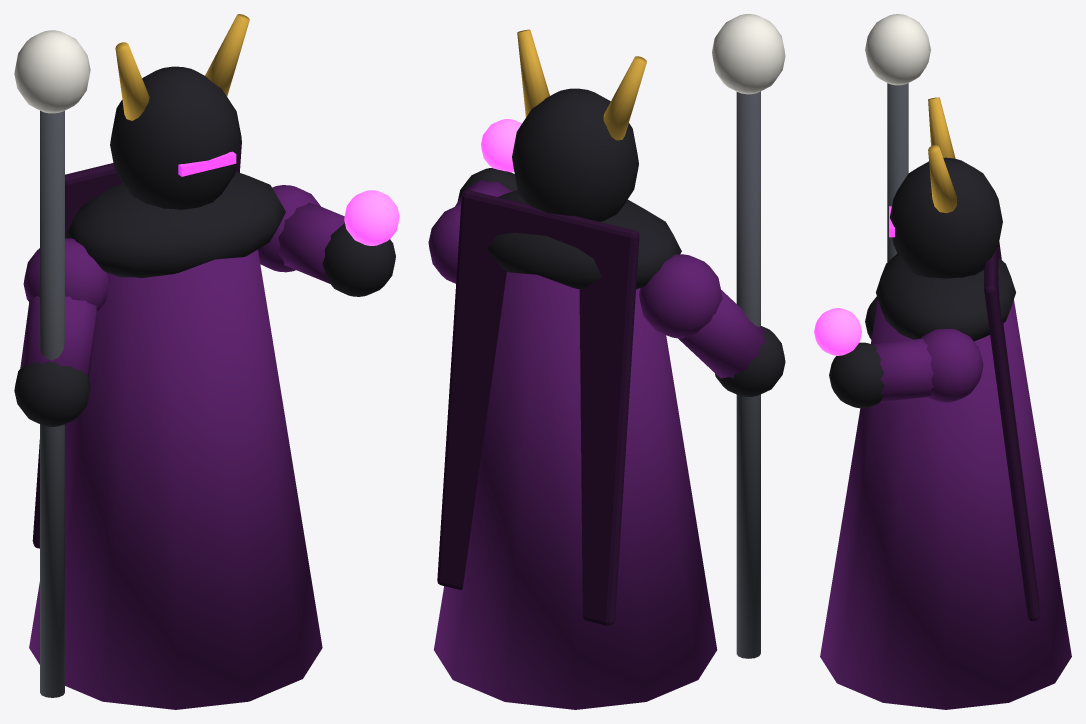
Rendered from chaos_warlock.glb.
3 views of the same model, side by side, from view 1: azimuth 30°, elevation 25°; view 2: azimuth 150°, elevation 25°; view 3: azimuth 270°, elevation 25° (orthographic). The views are drawn at different scales.
Visible parts, largest first — view 1: chaos_warlock; view 2: chaos_warlock; view 3: chaos_warlock.
Part boxes in pixels (x1,y1,x2,y2): chaos_warlock: (14, 14, 399, 709); chaos_warlock: (428, 14, 785, 709); chaos_warlock: (814, 14, 1071, 709).
Size of the model in its own units: 0.58 by 1.06 by 0.43.
